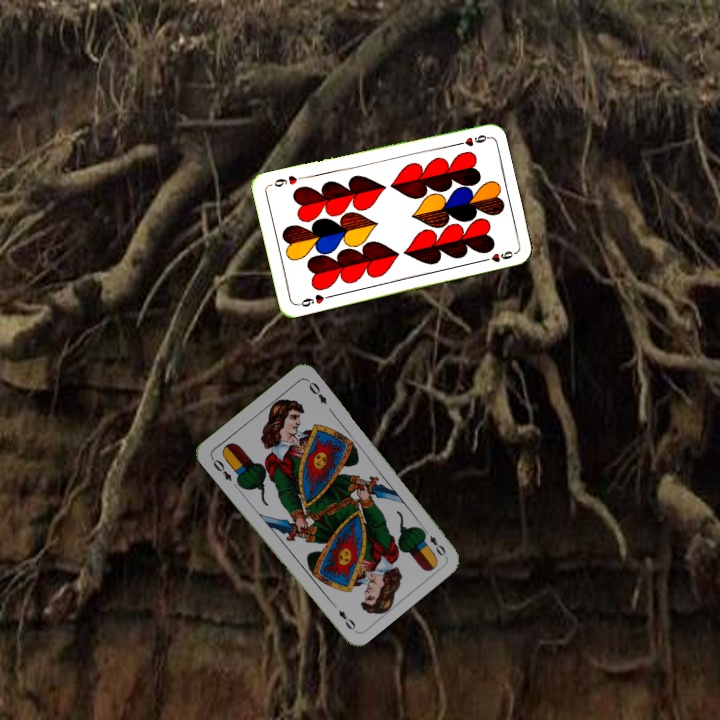EO: (418, 524, 449, 559), (207, 453, 234, 484)
H9: (293, 290, 333, 310), (450, 131, 490, 149)
